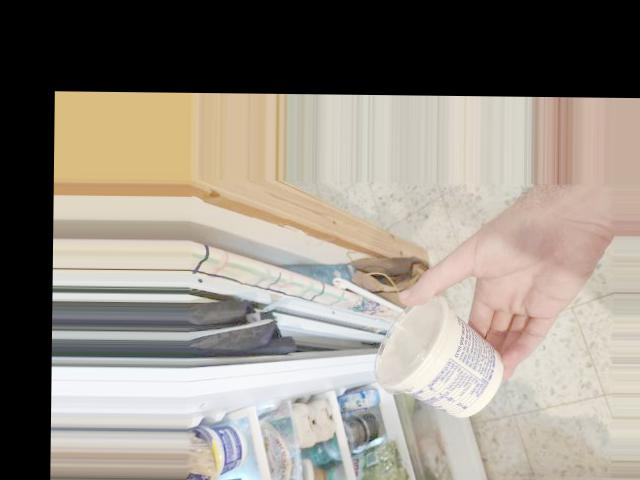cotage: (373, 303, 490, 413)
